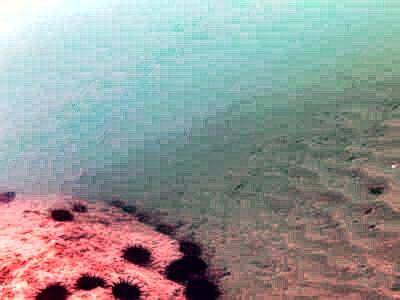urchin: (166, 256, 205, 277), (124, 241, 151, 266), (180, 279, 218, 296), (32, 278, 69, 295), (111, 275, 144, 294), (74, 270, 104, 289), (51, 207, 73, 223), (180, 240, 202, 256)
